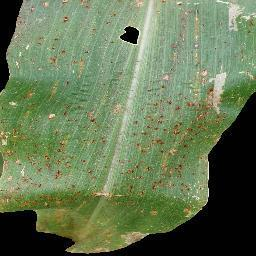Corn_Common_Rust: (0, 76, 158, 254), (158, 0, 256, 229), (5, 10, 115, 76), (17, 0, 145, 9), (120, 26, 143, 44)
